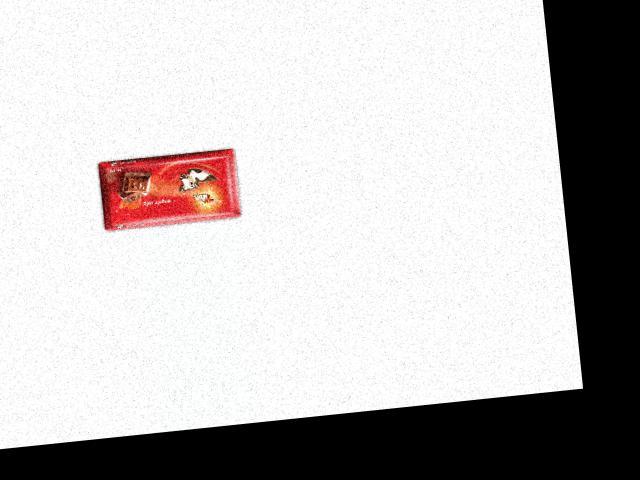chocolate: (95, 142, 249, 231)
